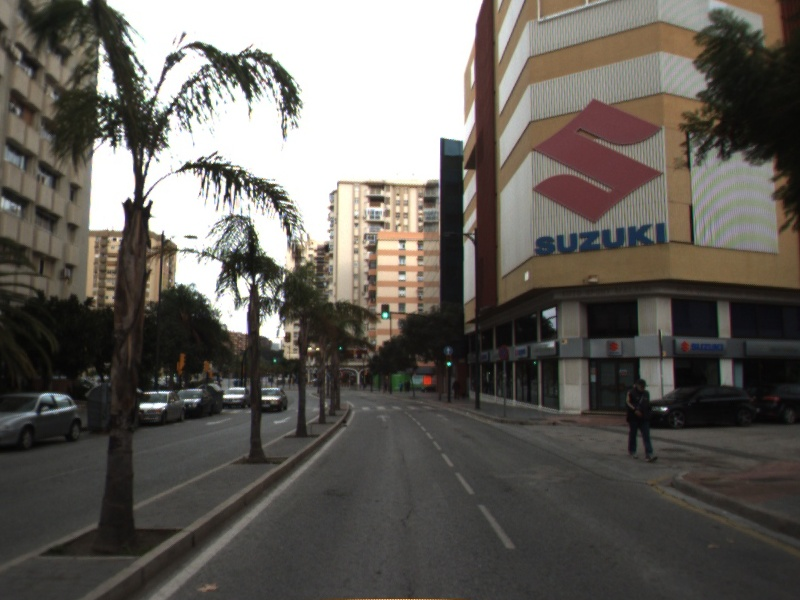STRAIGHT: (374, 412, 392, 424)
